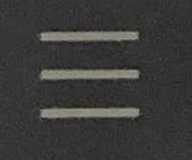menu: (12, 9, 170, 145)
